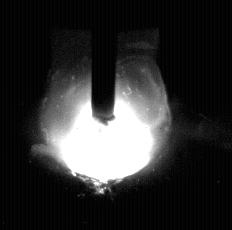arame: (92, 0, 117, 126)
poca: (39, 0, 174, 230)
